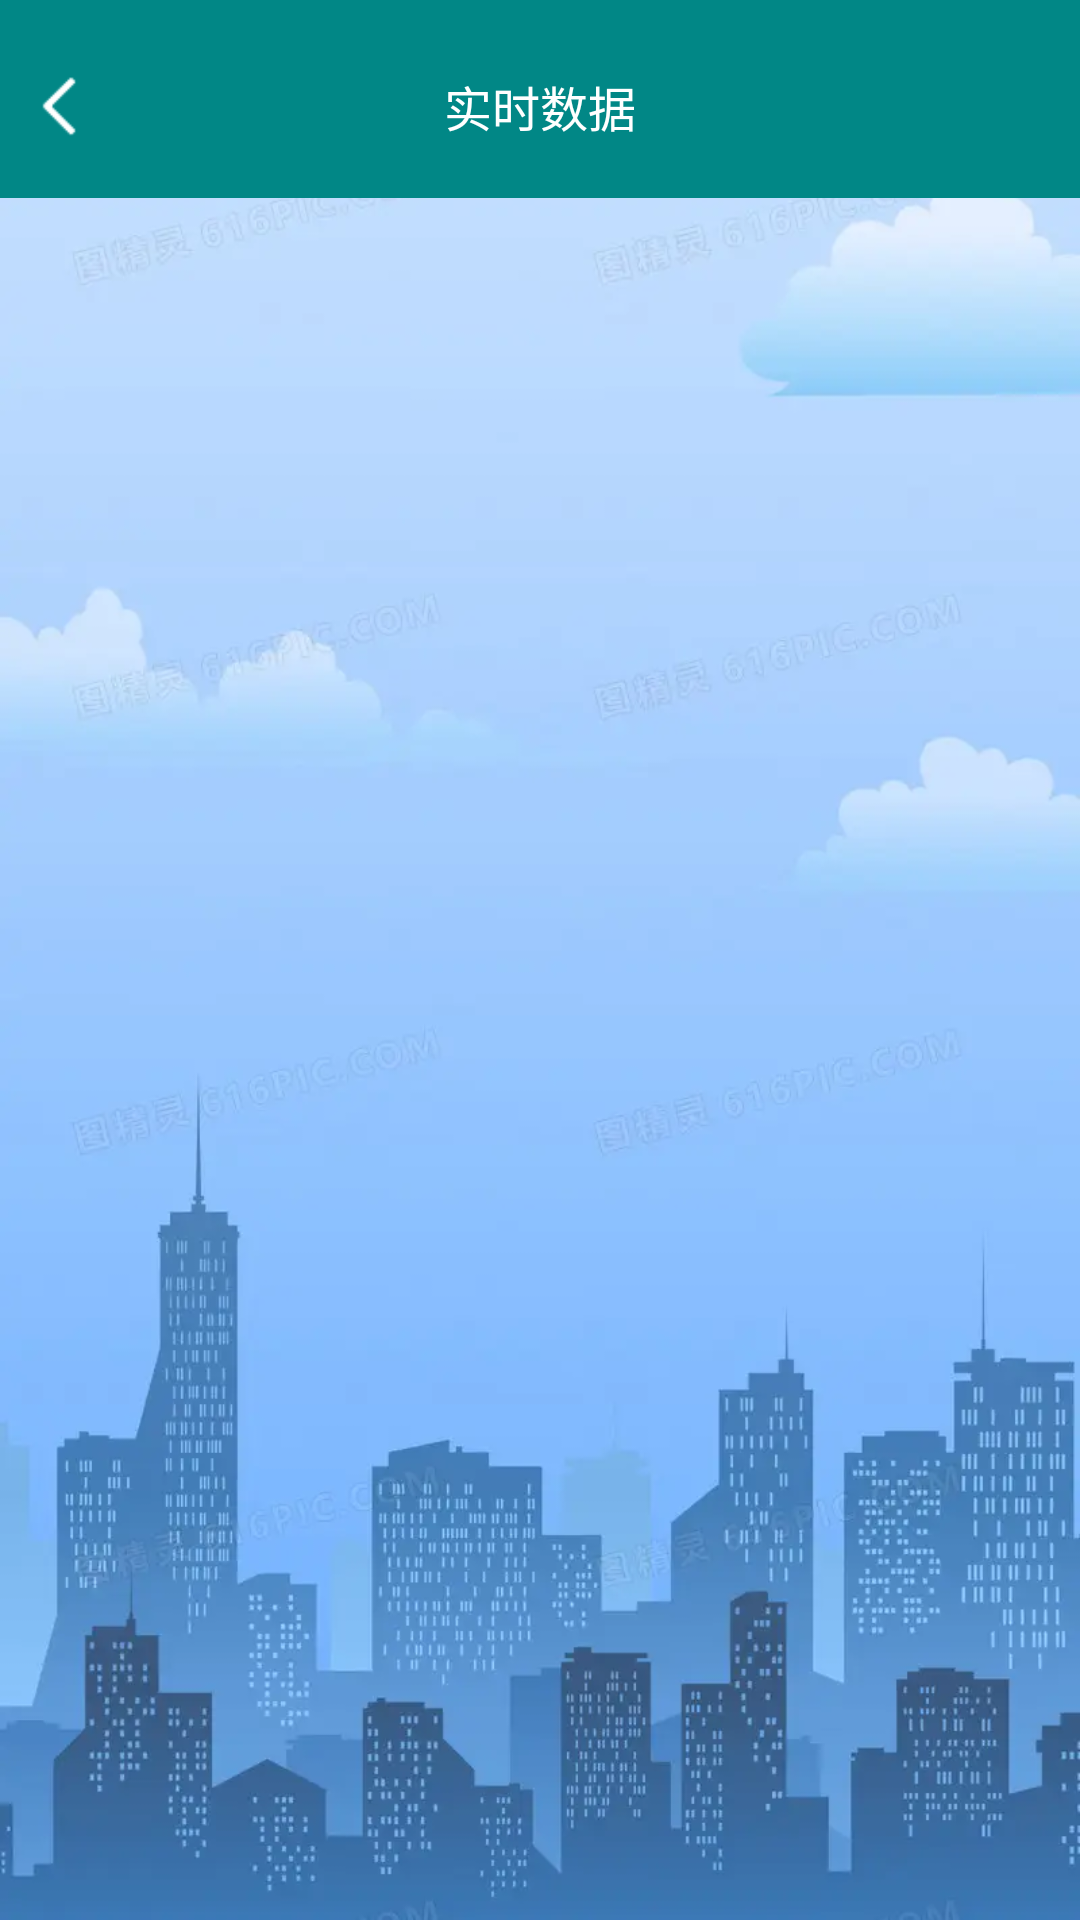

Icon click points for this 1080 x 1920 phone screenshot, format point (x, y):
back arrow: point (59, 106)
